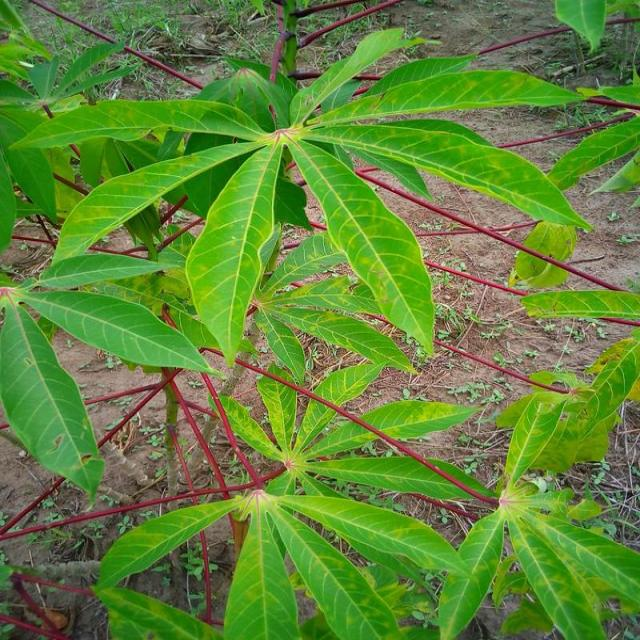cassava leaf: (2, 22, 638, 637), (289, 134, 437, 358), (184, 135, 286, 367), (2, 289, 106, 504)
